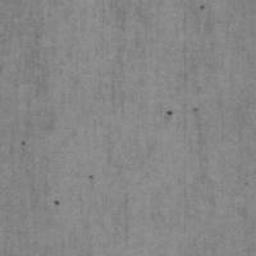Inclusion: (20, 140, 27, 147), (165, 110, 173, 116), (87, 174, 95, 179), (193, 106, 198, 113)
